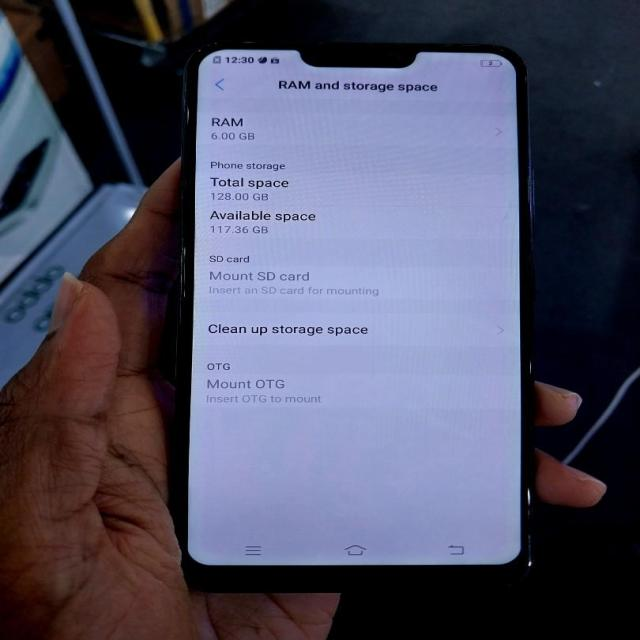mobile_phone: (150, 0, 540, 578)
